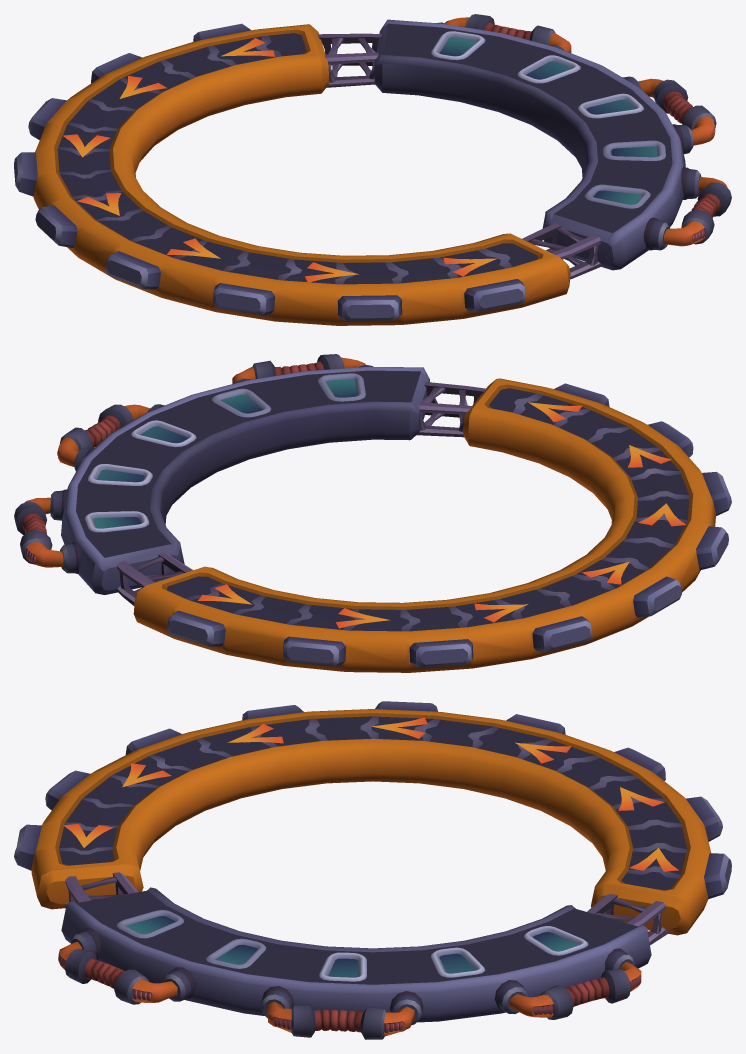
The model's file is SM_Rotation_Platform_01.fbx.
The picture shows the model from 3 angles, top to bottom: view 1: azimuth 30°, elevation 25°; view 2: azimuth 150°, elevation 25°; view 3: azimuth 270°, elevation 25°; orthographic projection. The views are drawn at different scales.
Visible parts, largest first — view 1: SM_Rotation_Platform_01; view 2: SM_Rotation_Platform_01; view 3: SM_Rotation_Platform_01.
Boxes of the visible parts, x1,y1,x2,y2 form: SM_Rotation_Platform_01: [14, 14, 731, 325]; SM_Rotation_Platform_01: [14, 354, 731, 672]; SM_Rotation_Platform_01: [14, 701, 731, 1039].
Size of the model in its own units: 14.32 by 0.8688 by 13.71.
